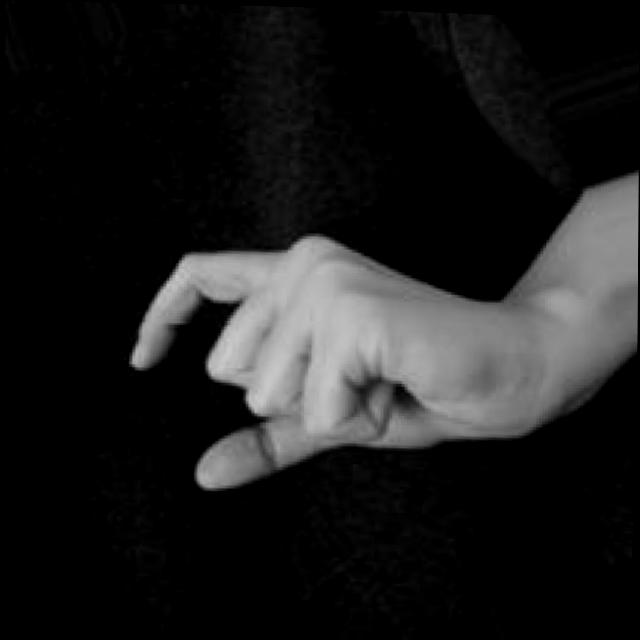C: (123, 219, 486, 508)
